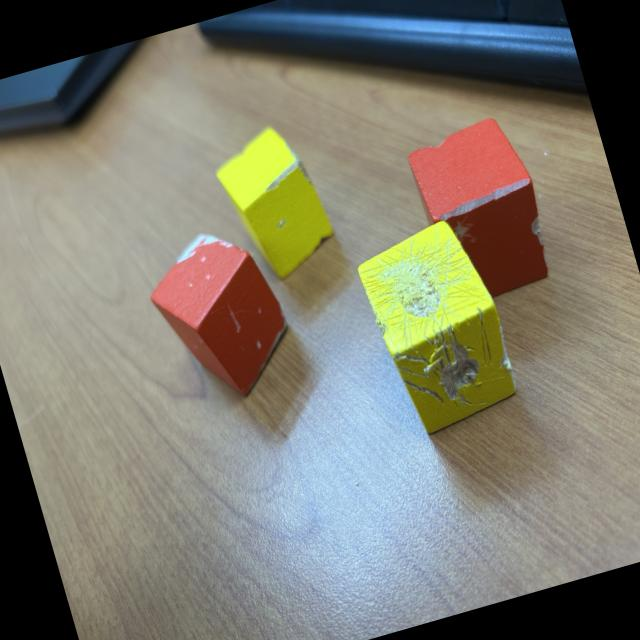broken: (350, 210, 527, 442), (135, 216, 304, 414), (401, 110, 561, 310), (204, 116, 344, 291)
